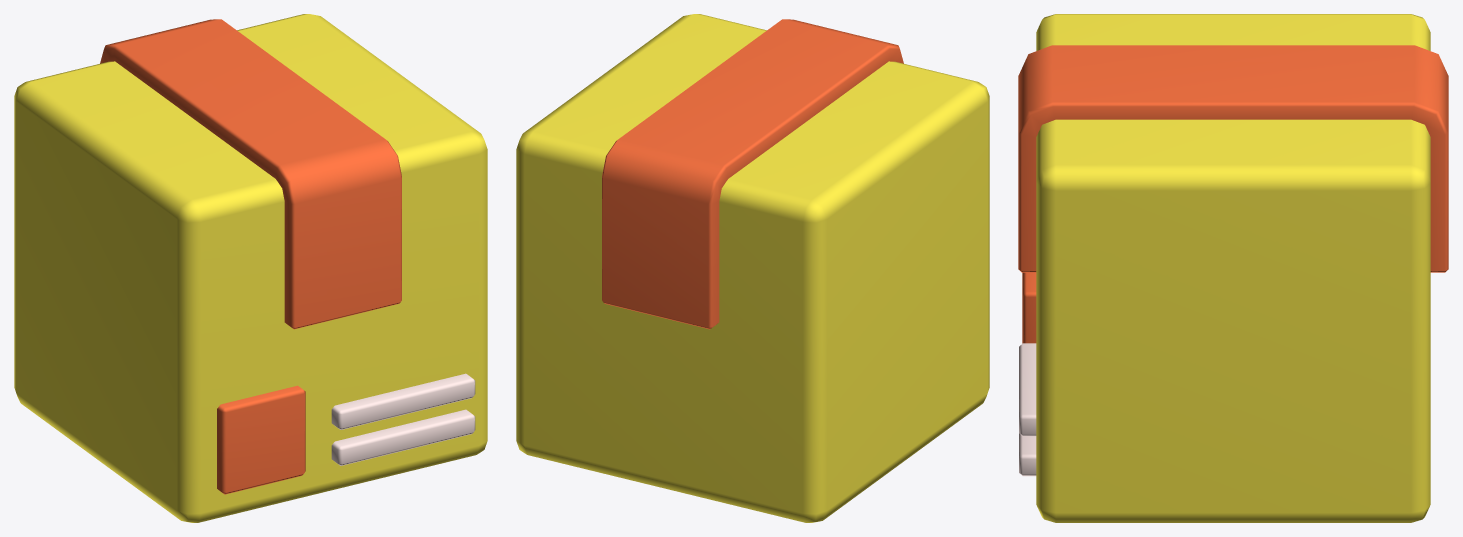
Rendered from Public_6_Box_3.glb.
3 views of the same model, side by side, from view 1: azimuth 30°, elevation 25°; view 2: azimuth 150°, elevation 25°; view 3: azimuth 270°, elevation 25° (orthographic). The views are drawn at different scales.
Visible parts, largest first — view 1: Public_6_Box_3; view 2: Public_6_Box_3; view 3: Public_6_Box_3.
Part boxes in pixels (bbox=[...]): Public_6_Box_3: bbox=[14, 14, 487, 522]; Public_6_Box_3: bbox=[516, 14, 989, 522]; Public_6_Box_3: bbox=[1018, 14, 1448, 522].
Size of the model in its own units: 1.93 by 2.02 by 2.1.
1 material, 1 textured.
